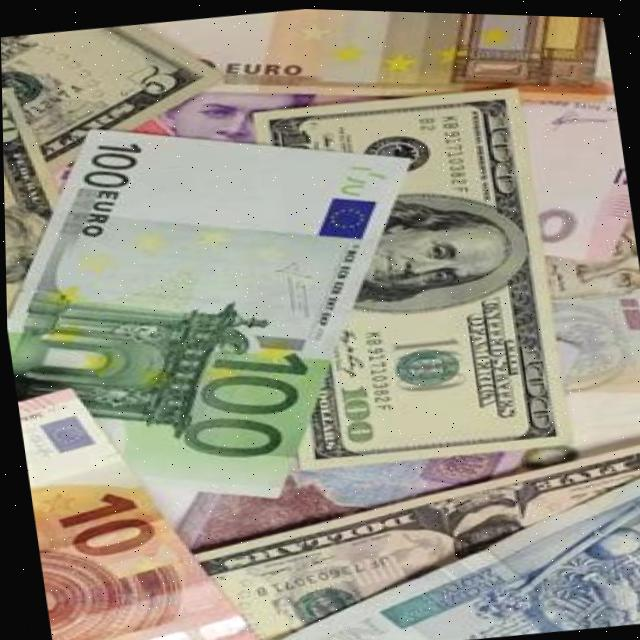banknote: (2, 87, 457, 533), (119, 38, 638, 318), (249, 77, 570, 475), (177, 423, 640, 640), (240, 449, 640, 640), (12, 363, 269, 640), (150, 3, 616, 154), (0, 10, 240, 193), (161, 337, 318, 469), (1, 80, 81, 319), (45, 481, 177, 569), (523, 449, 636, 495), (69, 131, 150, 195), (477, 103, 524, 198), (513, 336, 556, 428), (331, 379, 380, 449), (120, 59, 185, 101), (2, 89, 27, 149)
